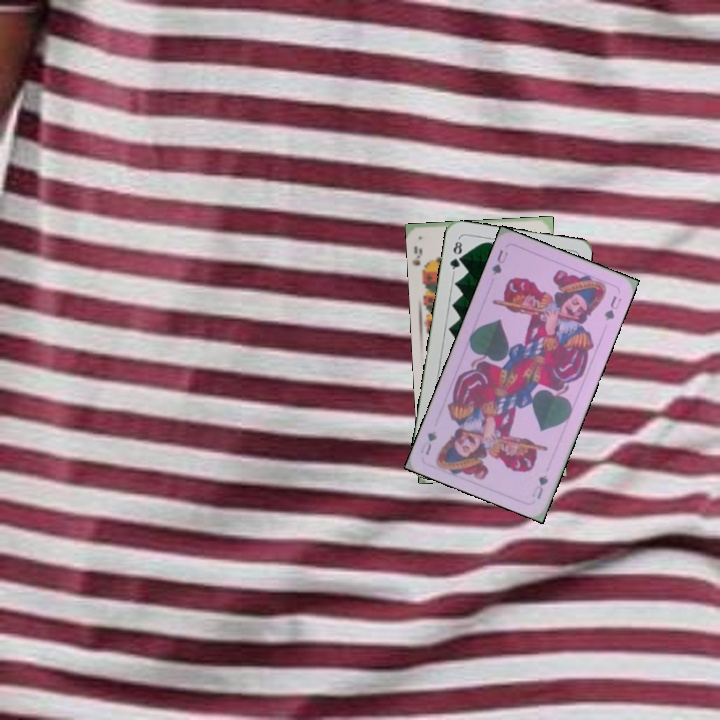G8: (446, 237, 465, 276)
GU: (488, 246, 511, 277), (528, 471, 551, 502)
S9: (410, 242, 430, 278)
